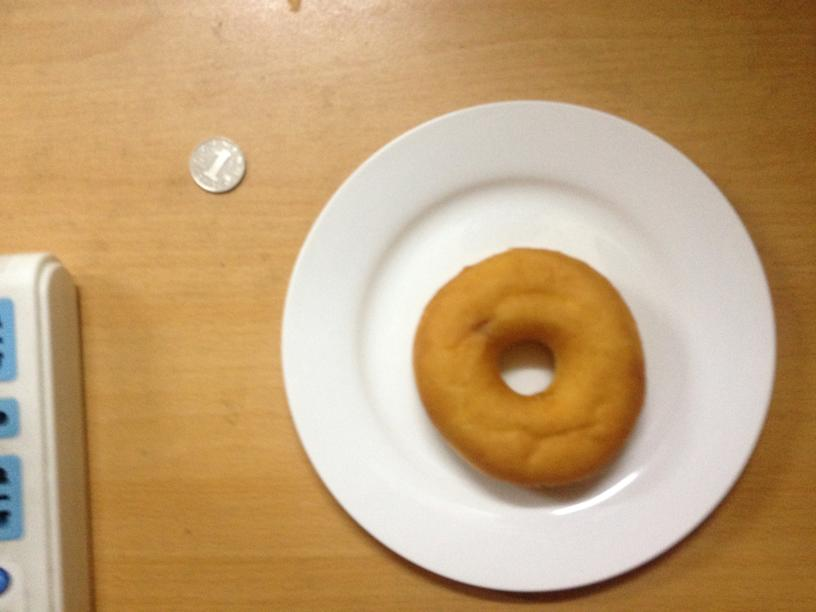coin: (189, 139, 247, 193)
doughnut: (418, 248, 646, 489)
